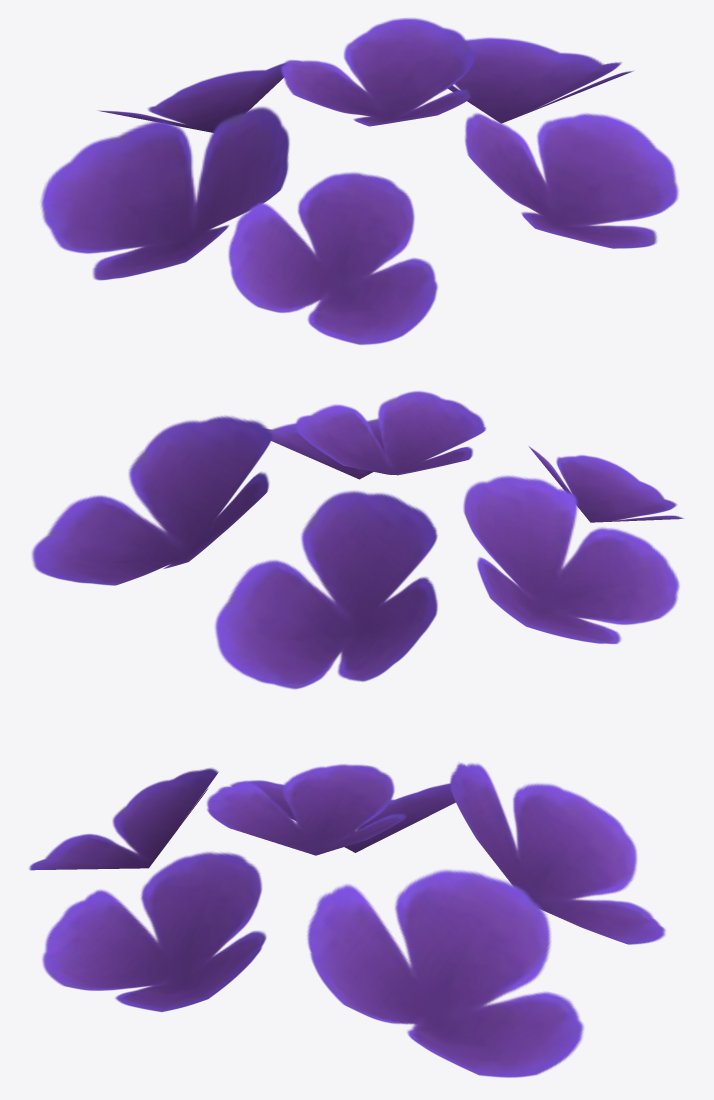
File: plant-variant-1-transformed.glb
The picture shows the model from 3 angles, top to bottom: view 1: azimuth 30°, elevation 25°; view 2: azimuth 150°, elevation 25°; view 3: azimuth 270°, elevation 25°; orthographic projection. The views are drawn at different scales.
Parts seen in each view (by area): view 1: Plant_7; view 2: Plant_7; view 3: Plant_7.
Part boxes in pixels (x1=…): Plant_7: x1=40, y1=18, x2=678, y2=344; Plant_7: x1=31, y1=391, x2=684, y2=689; Plant_7: x1=29, y1=762, x2=665, y2=1077.
Size of the model in its own units: 1.05 by 0.2495 by 0.9621.
1 material, 1 textured.
